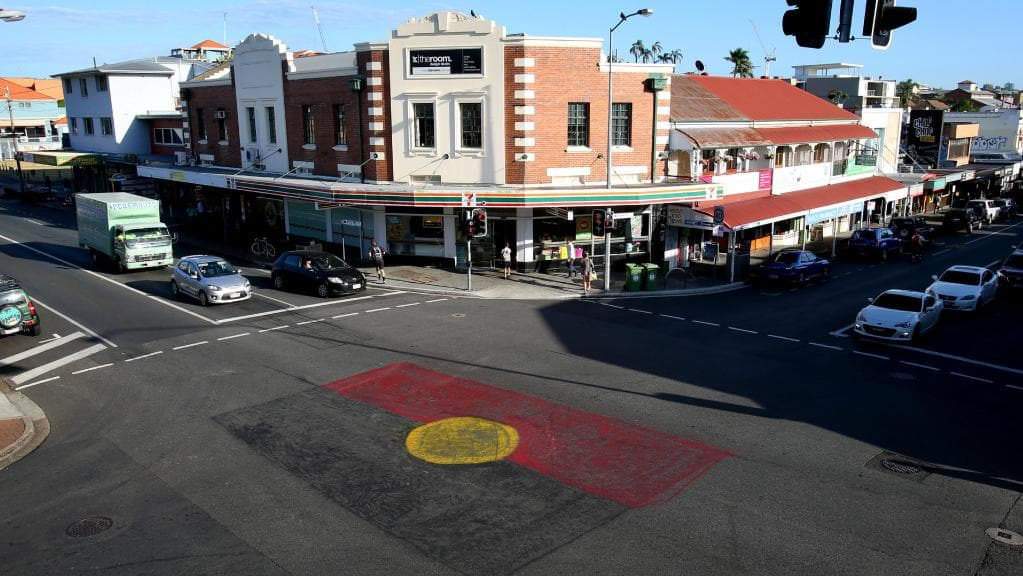aboriginal_flag: (208, 355, 754, 576)
